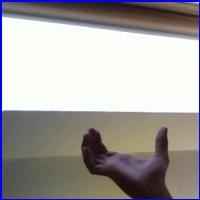space: (72, 113, 188, 196)
